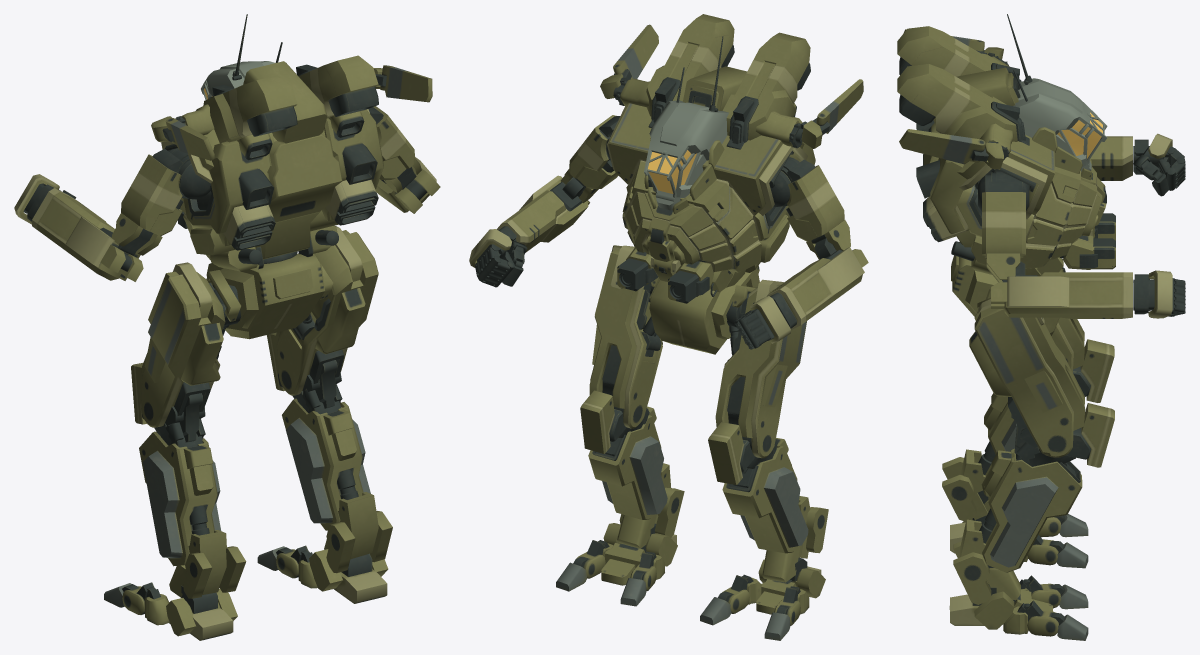
The model's file is Spider.glb.
3 views of the same model, side by side, from view 1: azimuth 30°, elevation 25°; view 2: azimuth 150°, elevation 25°; view 3: azimuth 270°, elevation 25° (orthographic). The views are drawn at different scales.
Visible parts, largest first — view 1: CenterTorso_CoreAndPelvis, LeftTorso_TorsoShell, LeftLeg_Thigh, LeftLeg_Shin, RightLeg_Shin, RightLeg_Thigh, RightTorso_TorsoShell, LeftLeg_Foot, LeftArm_ForearmAndFist, RightLeg_Foot, LeftArm_ShoulderAndUpperarm, RightArm_ShoulderAndUpperarm (+2 smaller); view 2: LeftTorso_TorsoShell, CenterTorso_CoreAndPelvis, RightTorso_TorsoShell, LeftLeg_Shin, RightLeg_Thigh, LeftLeg_Thigh, RightLeg_Shin, RightLeg_Foot, LeftLeg_Foot, LeftArm_ForearmAndFist, RightArm_ForearmAndFist, Head_CockpitFrame (+5 smaller); view 3: RightTorso_TorsoShell, RightLeg_Shin, RightLeg_Thigh, CenterTorso_CoreAndPelvis, RightArm_ForearmAndFist, RightLeg_Foot, RightArm_ShoulderAndUpperarm, LeftLeg_Shin, LeftLeg_Foot, LeftArm_ForearmAndFist, Head_CockpitFrame, LeftTorso_TorsoShell (+4 smaller).
Boxes of the visible parts, <box> form: CenterTorso_CoreAndPelvis: <box>151,61,432,339</box>; LeftTorso_TorsoShell: <box>161,75,297,271</box>; LeftLeg_Thigh: <box>141,262,240,442</box>; LeftLeg_Shin: <box>131,363,226,594</box>; RightLeg_Shin: <box>267,332,378,559</box>; RightLeg_Thigh: <box>276,226,378,408</box>; RightTorso_TorsoShell: <box>296,55,383,253</box>; LeftLeg_Foot: <box>104,546,246,640</box>; LeftArm_ForearmAndFist: <box>14,174,143,281</box>; RightLeg_Foot: <box>257,511,392,603</box>; LeftArm_ShoulderAndUpperarm: <box>111,148,210,255</box>; RightArm_ShoulderAndUpperarm: <box>368,106,421,193</box>; LeftTorso_TorsoShell: <box>673,32,815,272</box>; CenterTorso_CoreAndPelvis: <box>600,24,863,354</box>; RightTorso_TorsoShell: <box>607,14,734,252</box>; LeftLeg_Shin: <box>708,422,810,558</box>; RightLeg_Thigh: <box>589,245,662,428</box>; LeftLeg_Thigh: <box>715,279,806,458</box>; RightLeg_Shin: <box>580,390,670,523</box>; RightLeg_Foot: <box>556,487,684,606</box>; LeftLeg_Foot: <box>700,507,828,640</box>; LeftArm_ForearmAndFist: <box>734,247,868,349</box>; RightArm_ForearmAndFist: <box>469,175,589,287</box>; Head_CockpitFrame: <box>644,100,728,210</box>; RightTorso_TorsoShell: <box>897,64,1101,268</box>; RightLeg_Shin: <box>960,403,1114,584</box>; RightLeg_Thigh: <box>969,297,1085,457</box>; CenterTorso_CoreAndPelvis: <box>899,29,1106,335</box>; RightArm_ForearmAndFist: <box>991,270,1185,318</box>; RightLeg_Foot: <box>949,541,1088,640</box>; RightArm_ShoulderAndUpperarm: <box>978,171,1029,282</box>; LeftLeg_Shin: <box>960,339,1114,519</box>; LeftLeg_Foot: <box>942,457,1088,568</box>; LeftArm_ForearmAndFist: <box>1090,133,1185,196</box>; Head_CockpitFrame: <box>1013,78,1107,171</box>; LeftTorso_TorsoShell: <box>897,26,1021,274</box>.
Size of the model in its own units: 1.43 by 2.34 by 1.09.
Materials: 4 (2 with a texture image).
